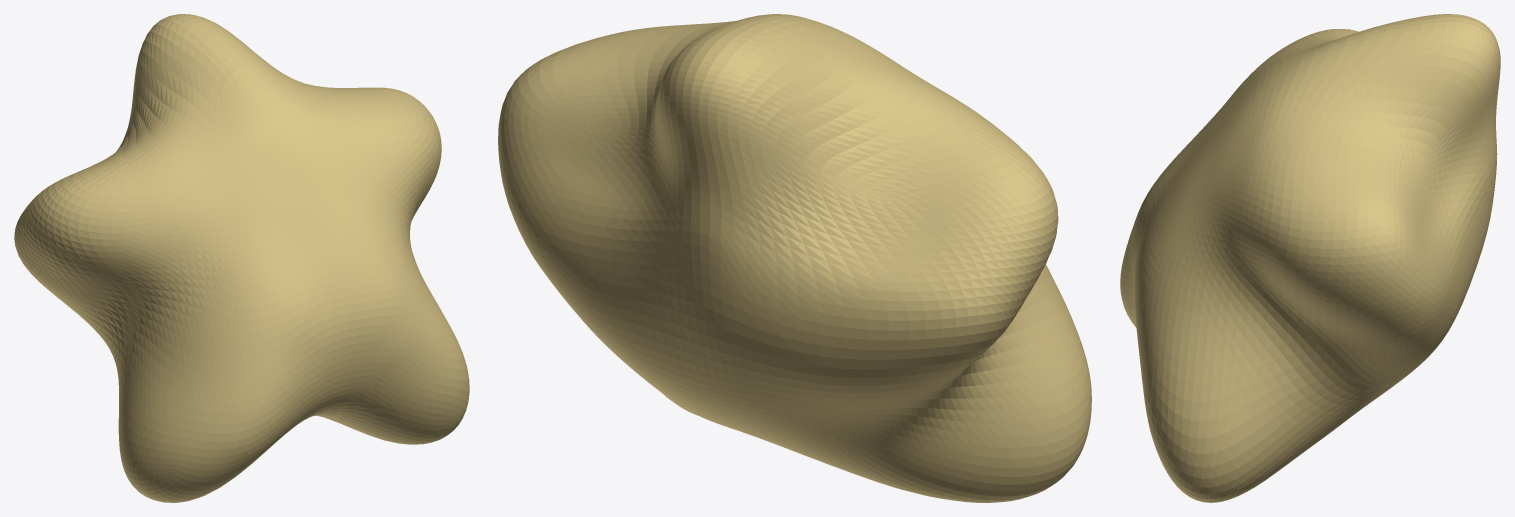
File: decoration_8_3.glb
3 renders of one model, left to right at view 1: azimuth 30°, elevation 25°; view 2: azimuth 150°, elevation 25°; view 3: azimuth 270°, elevation 25°, orthographic. The views are drawn at different scales.
Visible parts, largest first — view 1: Sphere; view 2: Sphere; view 3: Sphere.
Boxes of the visible parts, bbox=[...] form: Sphere: bbox=[14, 14, 469, 502]; Sphere: bbox=[498, 14, 1091, 502]; Sphere: bbox=[1120, 14, 1500, 502].
Size of the model in its own units: 0.2539 by 0.2314 by 0.1915.
